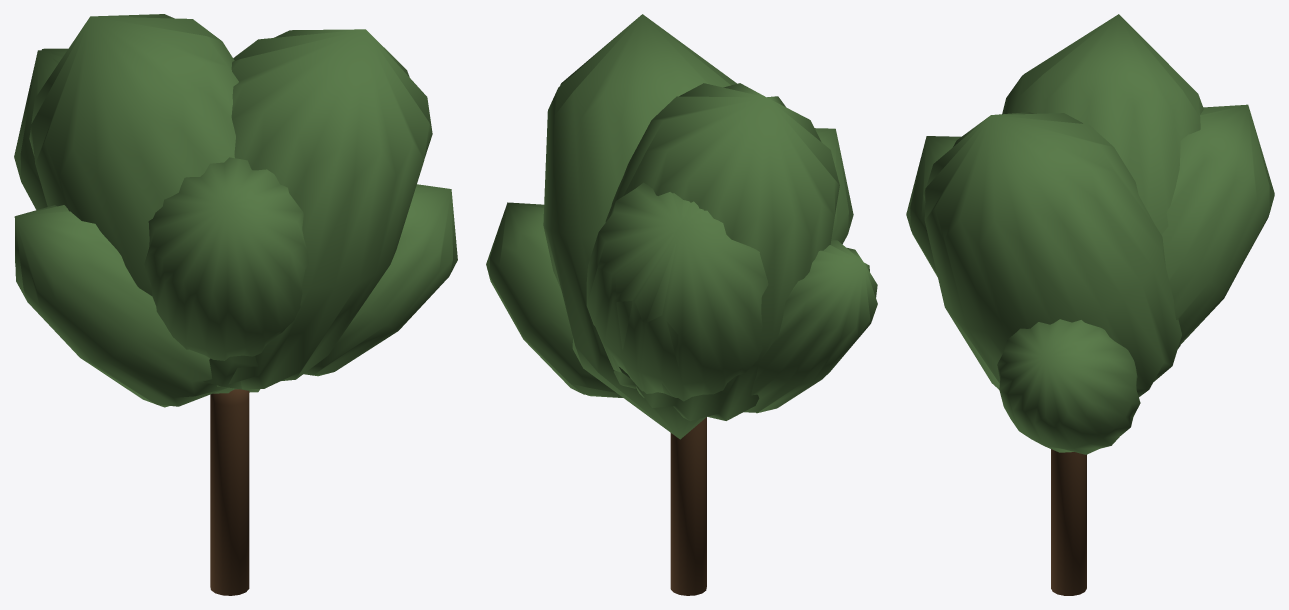
Rendered from Tree2.fbx.
The picture shows the model from 3 angles, left to right: view 1: azimuth 30°, elevation 25°; view 2: azimuth 150°, elevation 25°; view 3: azimuth 270°, elevation 25°; orthographic projection. The views are drawn at different scales.
Visible parts, largest first — view 1: Tree2; view 2: Tree2; view 3: Tree2.
Part boxes in pixels (bbox=[...]): Tree2: bbox=[14, 14, 457, 595]; Tree2: bbox=[486, 14, 877, 595]; Tree2: bbox=[906, 14, 1274, 595].
Bounding box in the file's own units: 2206 × 1659 × 1404.
